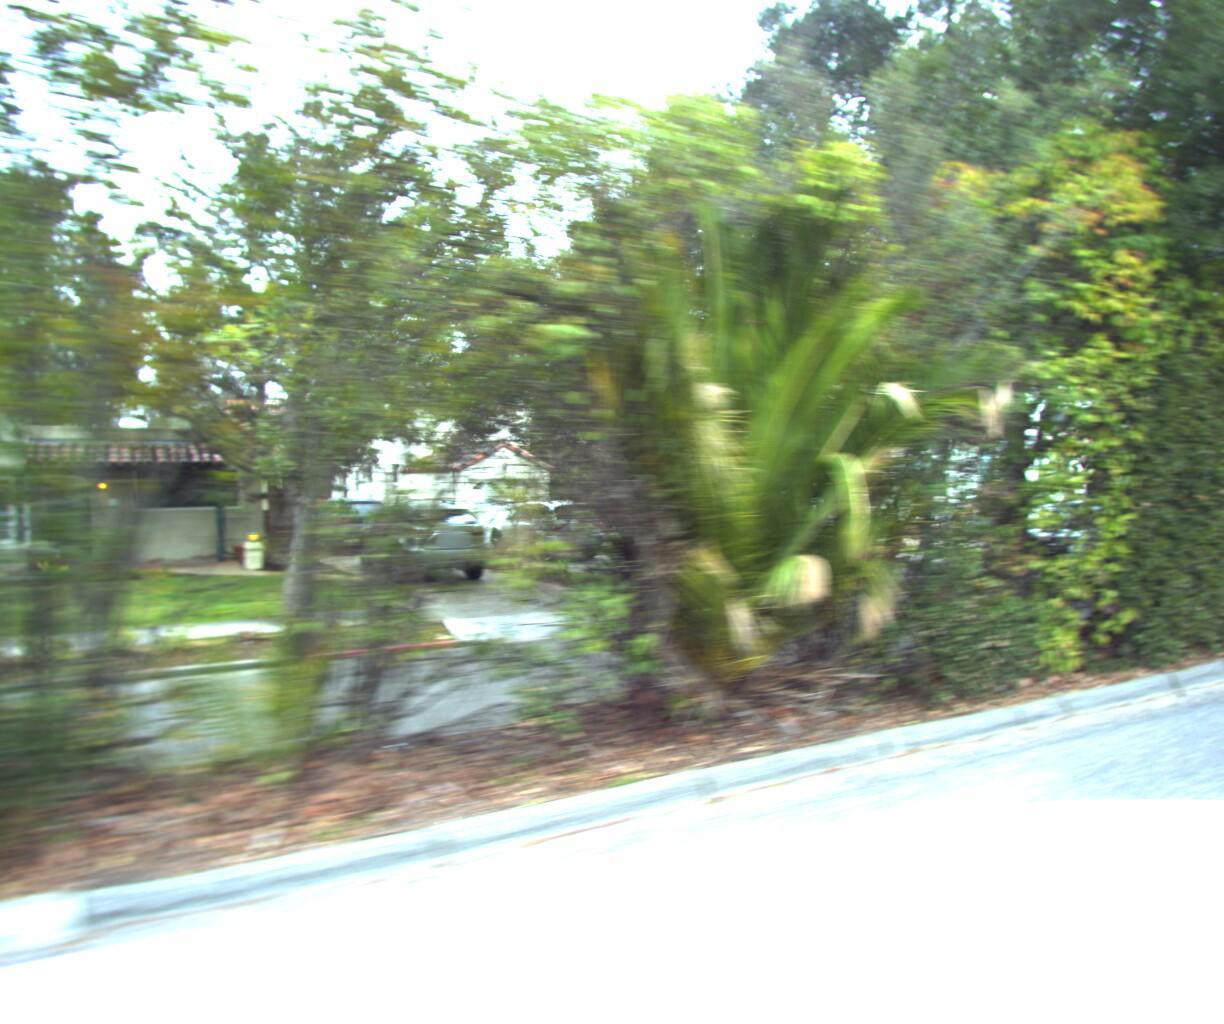car: (349, 496, 505, 590)
